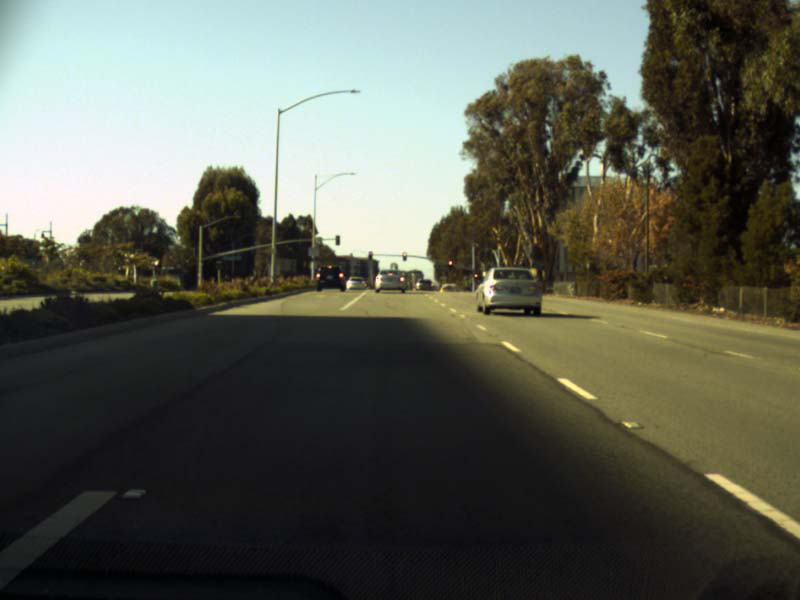Red: (448, 260, 452, 269), (473, 272, 478, 277), (368, 251, 371, 259), (403, 252, 406, 259)
